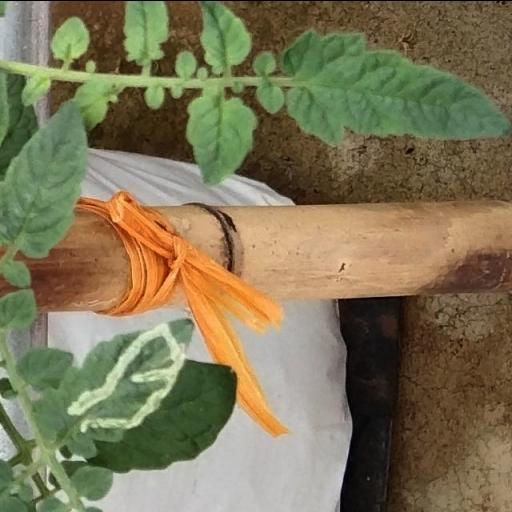Leaf Miner: (27, 316, 196, 458)
